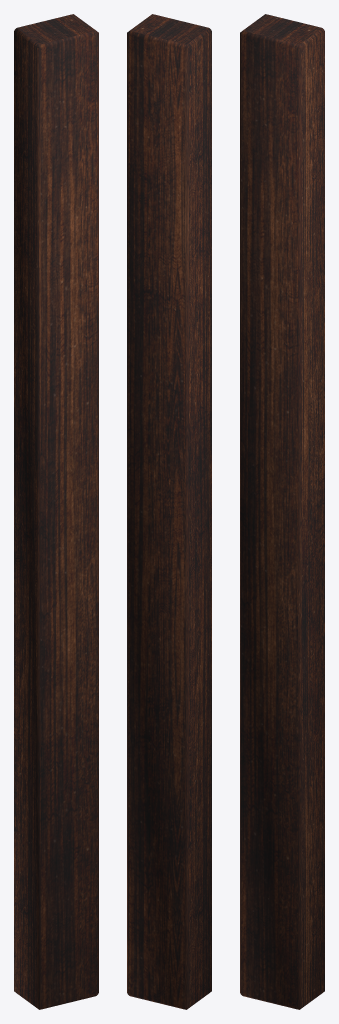
The model's file is pile10.fbx.
3 views of the same model, side by side, from view 1: azimuth 30°, elevation 25°; view 2: azimuth 150°, elevation 25°; view 3: azimuth 330°, elevation 25° (orthographic).
Parts seen in each view (by area): view 1: pile10; view 2: pile10; view 3: pile10.
Part boxes in pixels (x1,y1,x2,y2): pile10: (14,14,98,1009); pile10: (127,14,211,1009); pile10: (240,14,324,1009).
Bounding box in the file's own units: 19.85 × 296 × 14.32.
